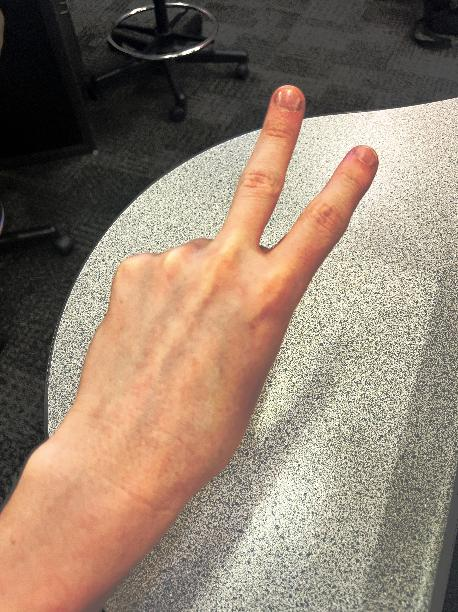Scissors: (64, 64, 400, 518)
